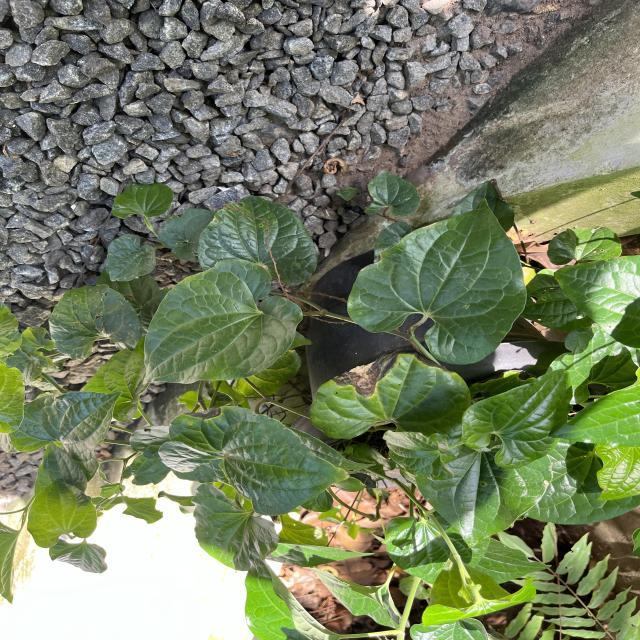Piper longum: (344, 194, 529, 366), (138, 256, 306, 389), (460, 366, 575, 472), (8, 388, 126, 484), (24, 479, 100, 551)
